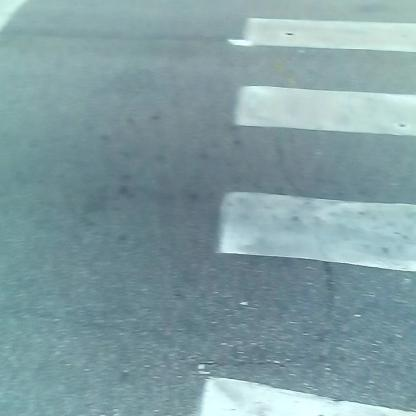crosswalk: (208, 20, 416, 416)
